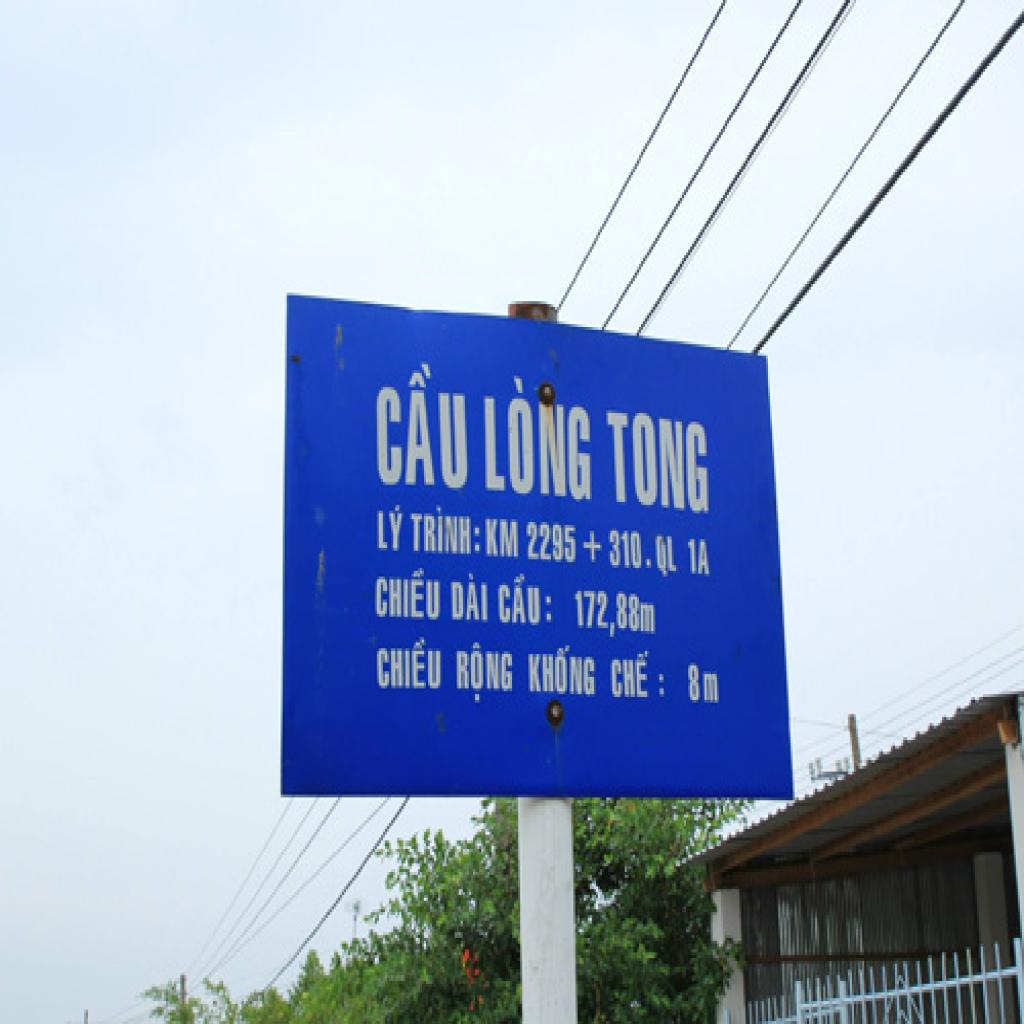text: (481, 370, 594, 505), (373, 358, 471, 494), (604, 407, 713, 519), (574, 586, 660, 646), (455, 637, 518, 708), (408, 502, 484, 559), (526, 640, 598, 700), (373, 637, 444, 694), (375, 565, 442, 625), (610, 645, 668, 703), (498, 571, 555, 628), (526, 519, 580, 568), (450, 571, 492, 628), (608, 528, 654, 574), (376, 502, 410, 554), (486, 516, 524, 562), (653, 534, 682, 582), (686, 536, 715, 580), (582, 528, 606, 568)
